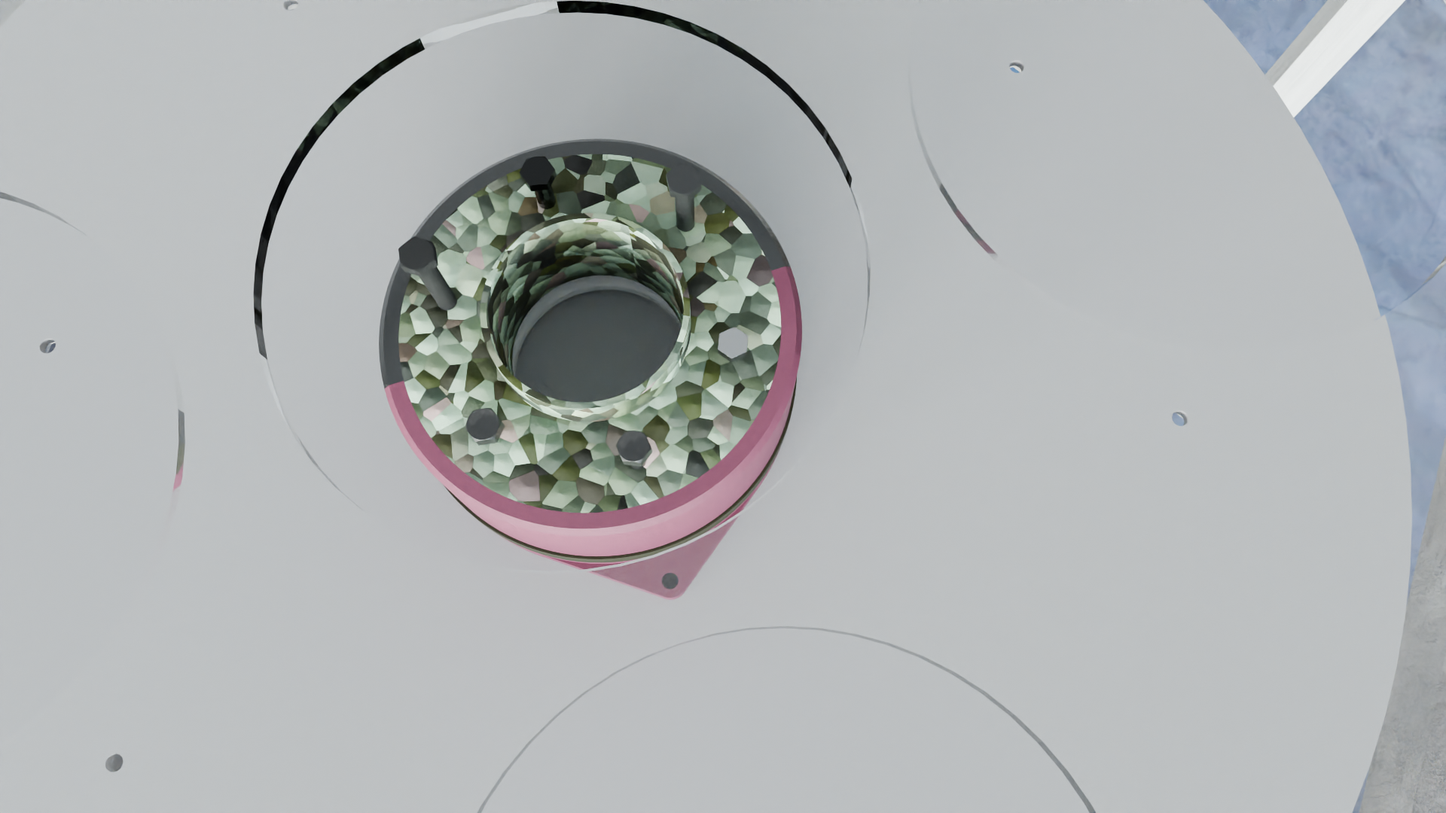bolt: (398, 236, 435, 272), (465, 408, 502, 442), (666, 163, 701, 196), (615, 431, 651, 463), (520, 157, 555, 186), (718, 327, 748, 359)
